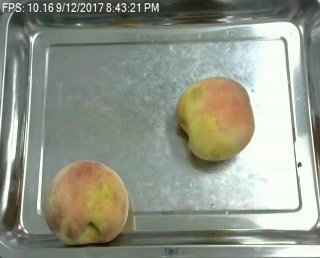Peach: (44, 159, 130, 244), (175, 77, 256, 161)
